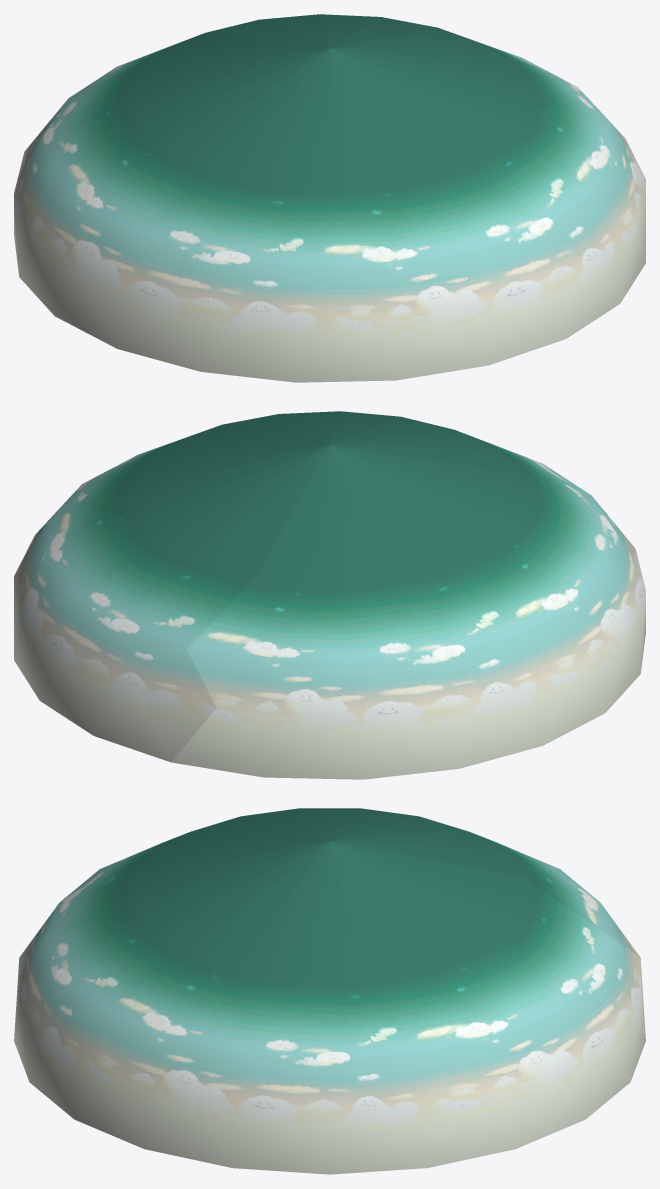
File: nokonoko_sky.dae
3 views of the same model, one above another, from view 1: azimuth 30°, elevation 25°; view 2: azimuth 150°, elevation 25°; view 3: azimuth 270°, elevation 25° (orthographic).
Parts seen in each view (by area): view 1: n0b0; view 2: n0b0; view 3: n0b0.
Part boxes in pixels (x1,y1,x2,y2): n0b0: (14, 14, 645, 382); n0b0: (14, 411, 645, 779); n0b0: (14, 808, 645, 1174).
Size of the model in its own units: 335304 by 116888 by 335304.
Materials: 1 (1 with a texture image).
